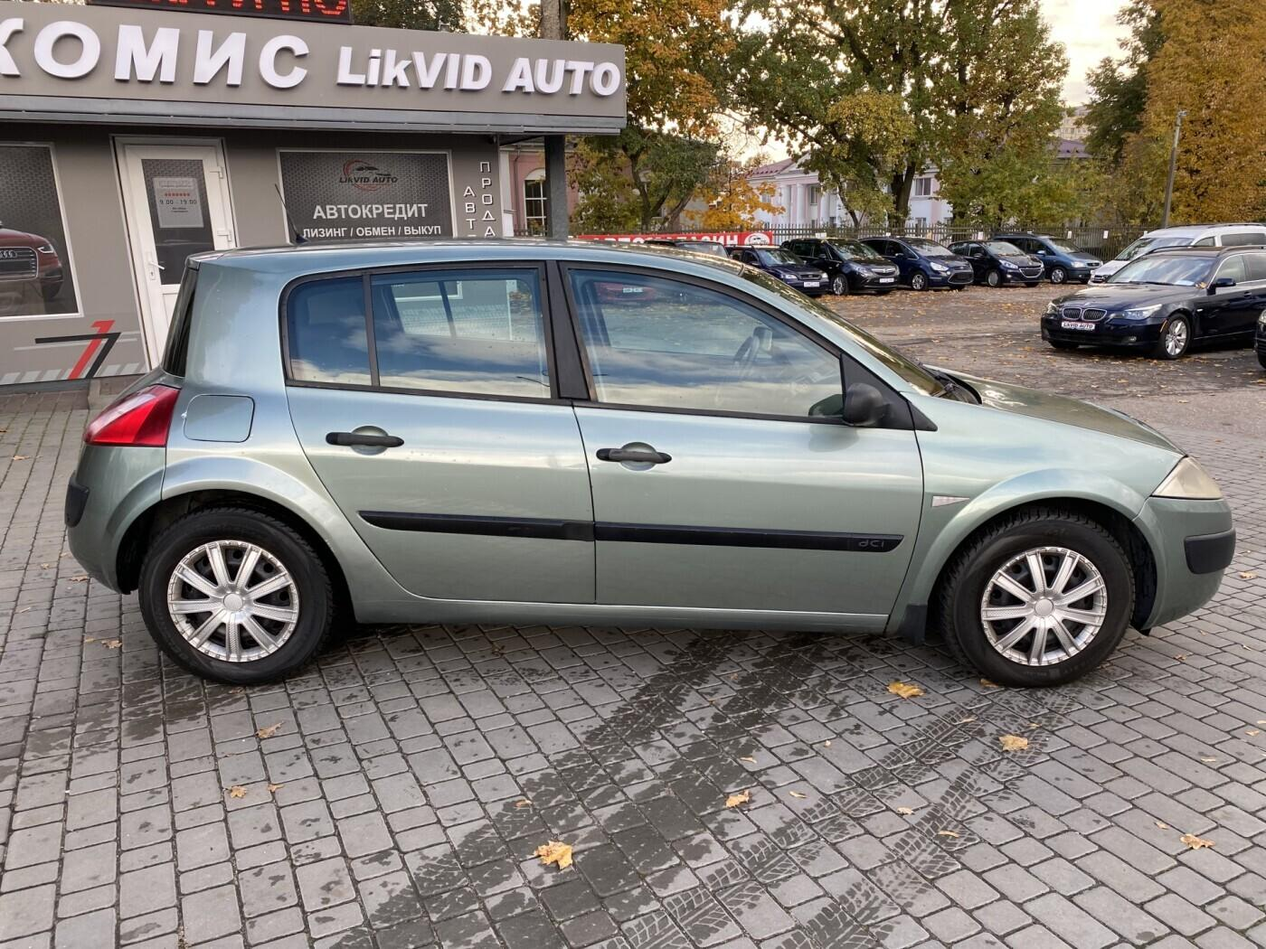Megane_2002-2006: (58, 235, 1248, 693)
